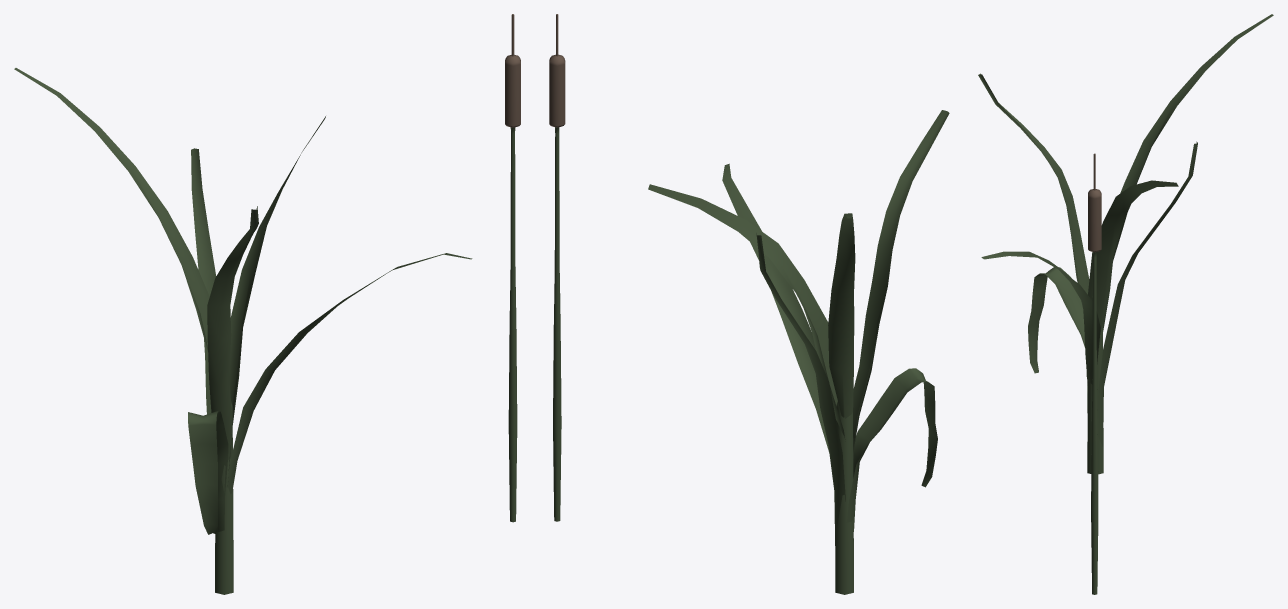
File: cattail.fbx
The picture shows the model from 3 angles, left to right: view 1: azimuth 30°, elevation 25°; view 2: azimuth 150°, elevation 25°; view 3: azimuth 270°, elevation 25°; orthographic projection. The views are drawn at different scales.
Visible parts, largest first — view 1: pCylinder5, pCylinder4; view 2: pCylinder5, pCylinder4; view 3: pCylinder5, pCylinder4.
Part boxes in pixels (x1,y1,x2,y2): pCylinder5: [14, 68, 472, 594]; pCylinder4: [505, 14, 520, 522]; pCylinder5: [648, 110, 949, 594]; pCylinder4: [549, 14, 565, 521]; pCylinder5: [978, 14, 1273, 474]; pCylinder4: [1088, 153, 1101, 594].
Bounding box in the file's own units: 17.3 × 20.68 × 12.61.
